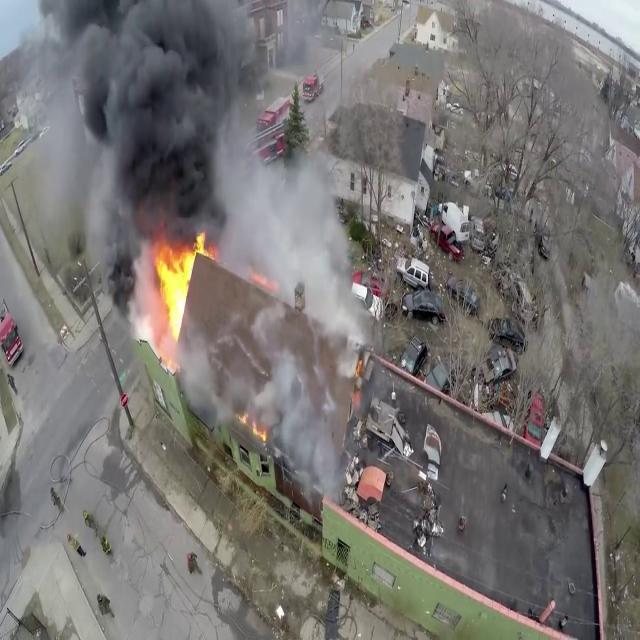Fire: (148, 218, 212, 344)
Smoke: (19, 0, 283, 242), (226, 134, 364, 501)
